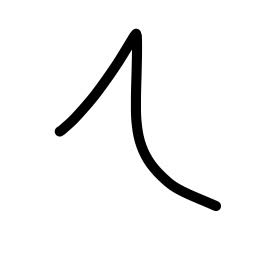e: (125, 20, 234, 231)
